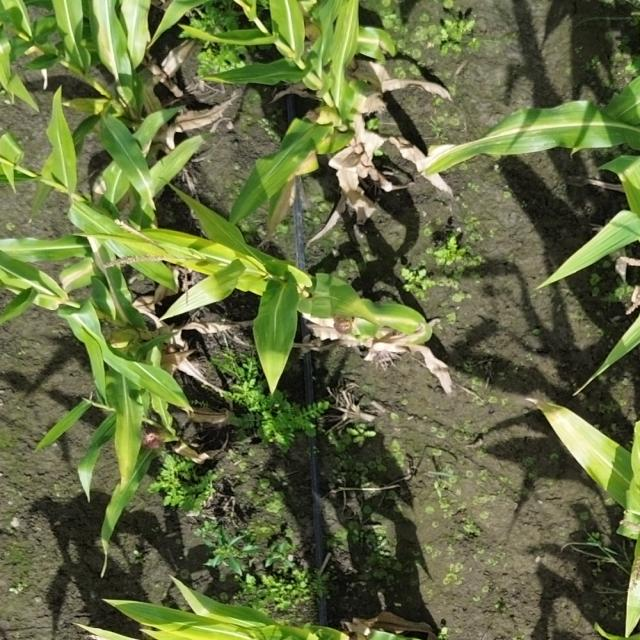northern-leaf-blight: (550, 406, 597, 454), (379, 308, 432, 342), (88, 240, 120, 292), (93, 19, 125, 67), (58, 265, 98, 289), (356, 30, 390, 55)
southern-leaf-blight: (494, 133, 556, 153)
